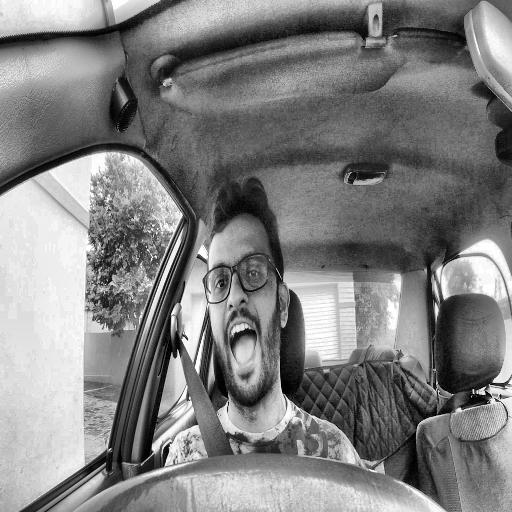awake: (204, 172, 290, 406)
